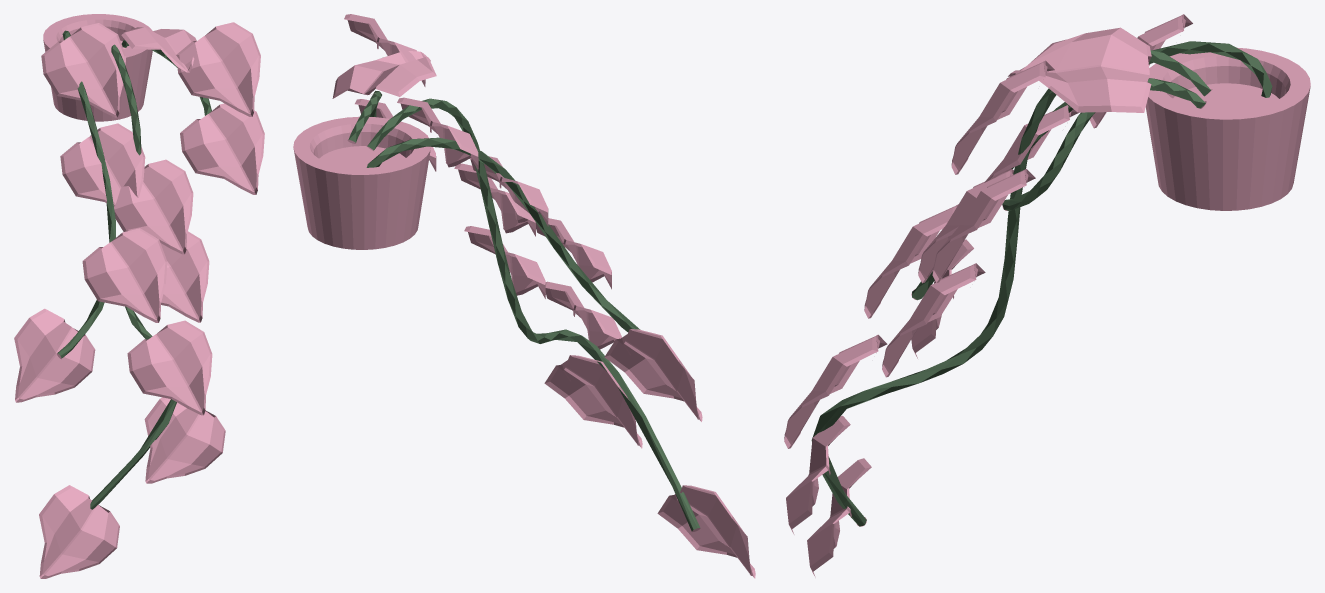
Rendered from Creeper.fbx.
The picture shows the model from 3 angles, left to right: view 1: azimuth 30°, elevation 25°; view 2: azimuth 150°, elevation 25°; view 3: azimuth 270°, elevation 25°; orthographic projection. The views are drawn at different scales.
Parts seen in each view (by area): view 1: ENREDADERA.001; view 2: ENREDADERA.001; view 3: ENREDADERA.001.
Boxes of the visible parts, <box> form: ENREDADERA.001: <box>14,14,264,578</box>; ENREDADERA.001: <box>293,14,755,578</box>; ENREDADERA.001: <box>784,14,1310,577</box>.
Size of the model in its own units: 0.361 by 0.5559 by 0.3979.
